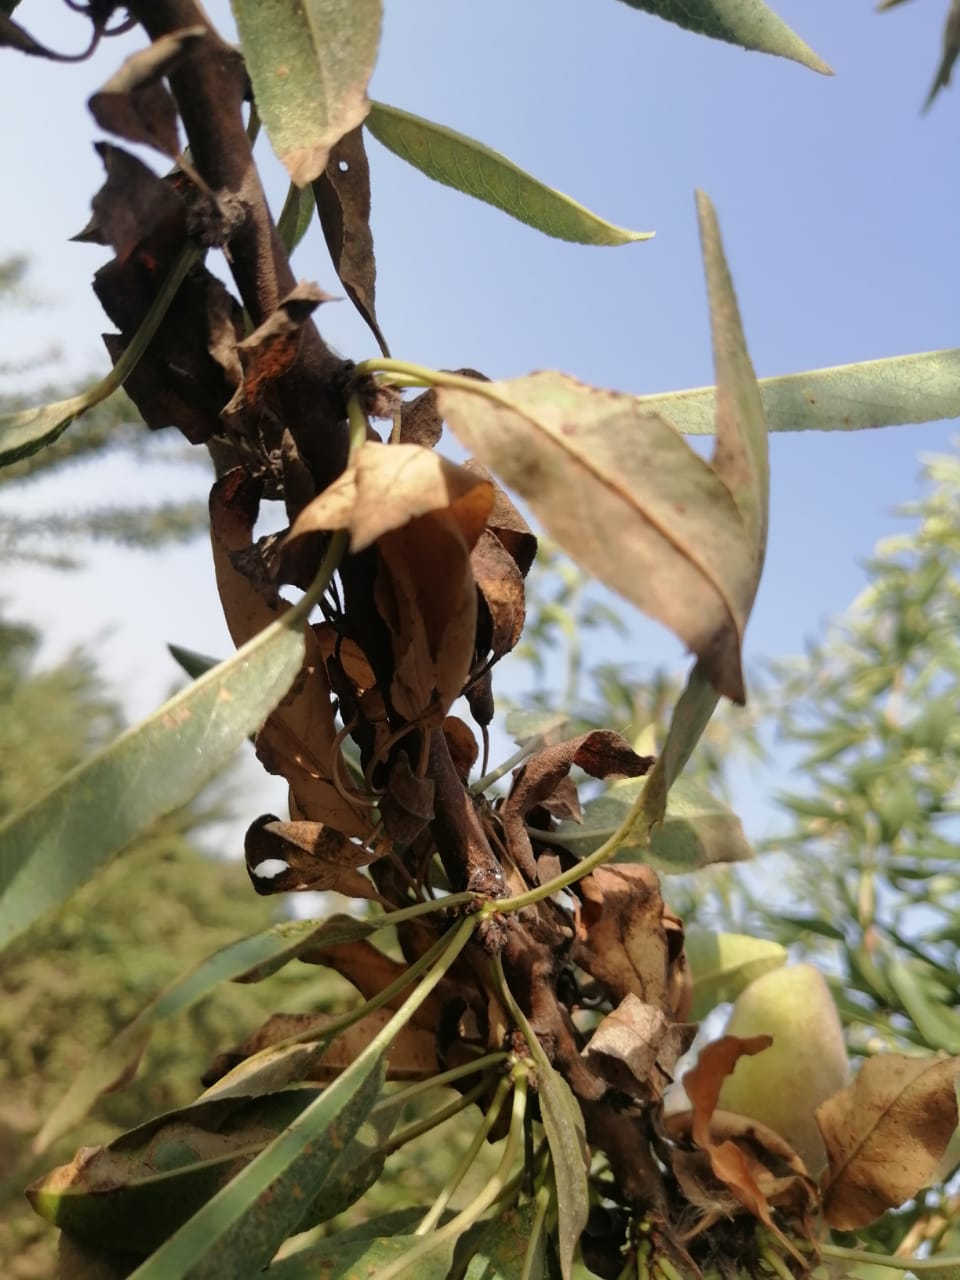scolytes: (83, 26, 810, 1280)
